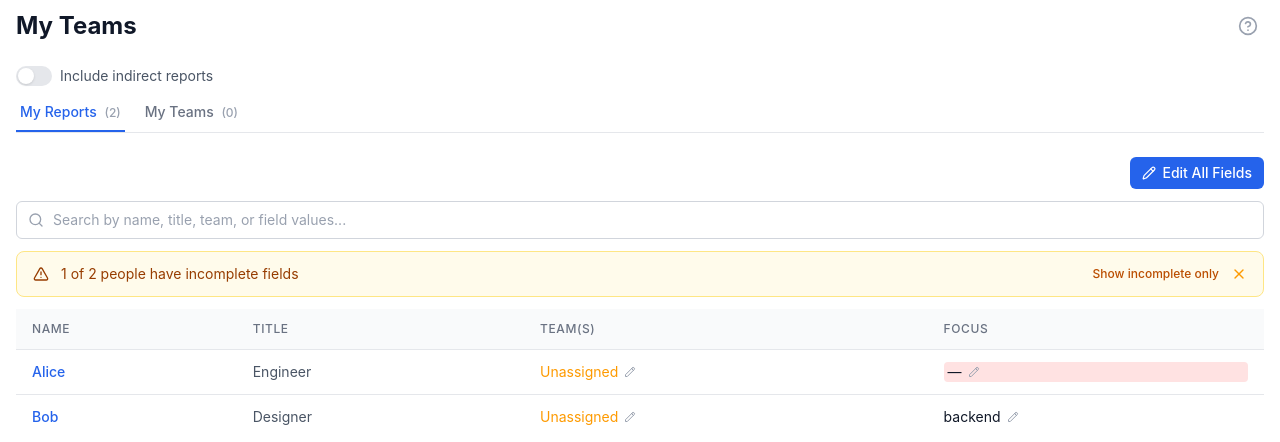
ManagerDashboardView › field completeness warnings › "Show incomplete only" filter works correctly
# Click "Show incomplete only"
Step 1. Click the button "Show incomplete only" → (1156, 274), box [1093,266,1219,282]
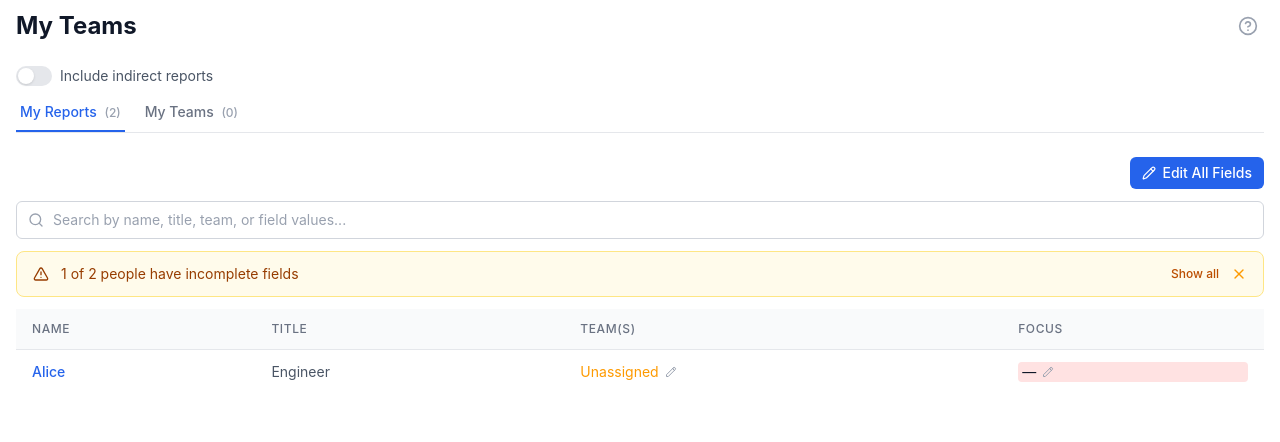
Expected: the text "Alice" is shown, [32,362,65,382]
Now the text "Bob" is gone
